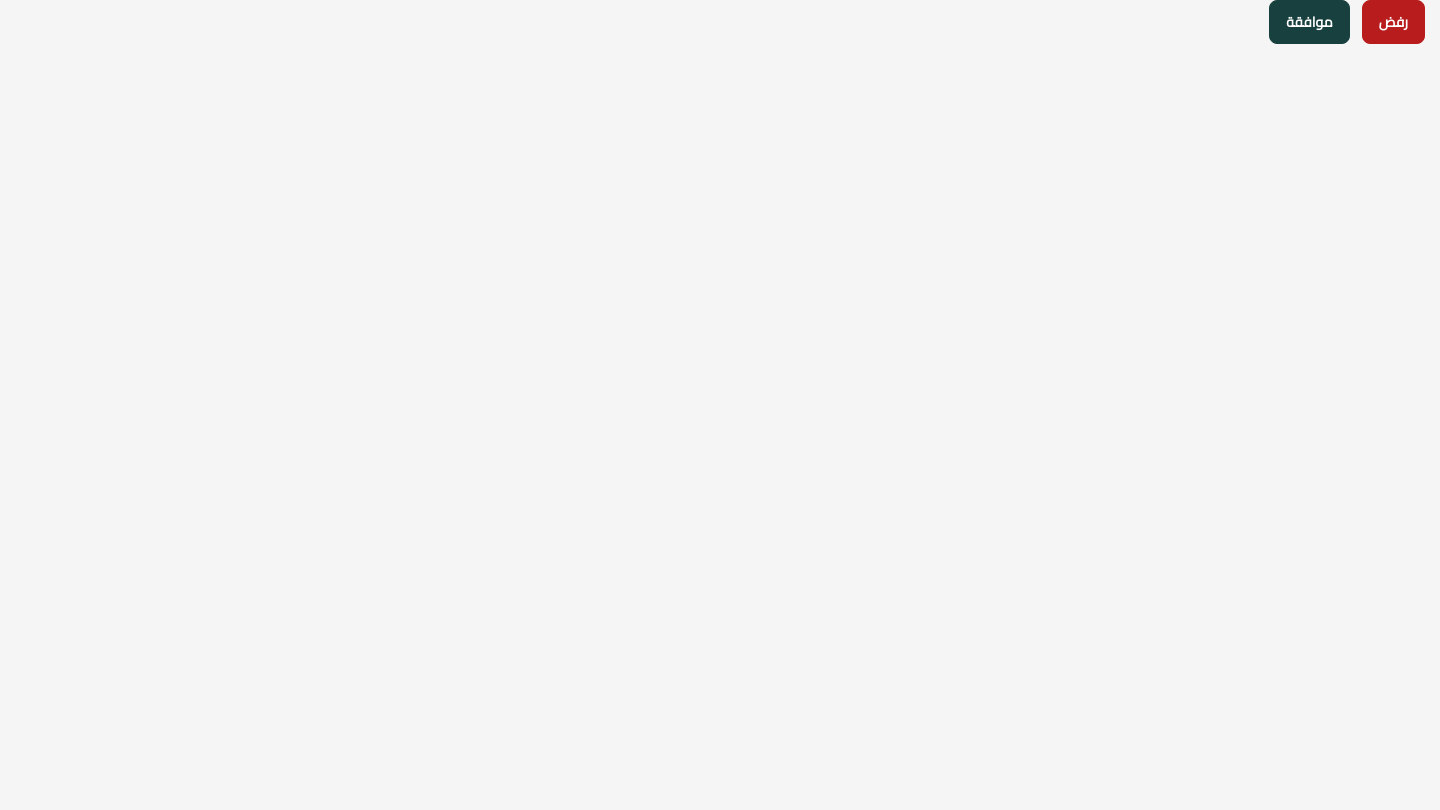
Test case: sends the trimmed reason, toasts, and refreshes admin lists and public feeds
Click the button "رفض" at coordinates (1393, 22), box [1362,0,1425,44]
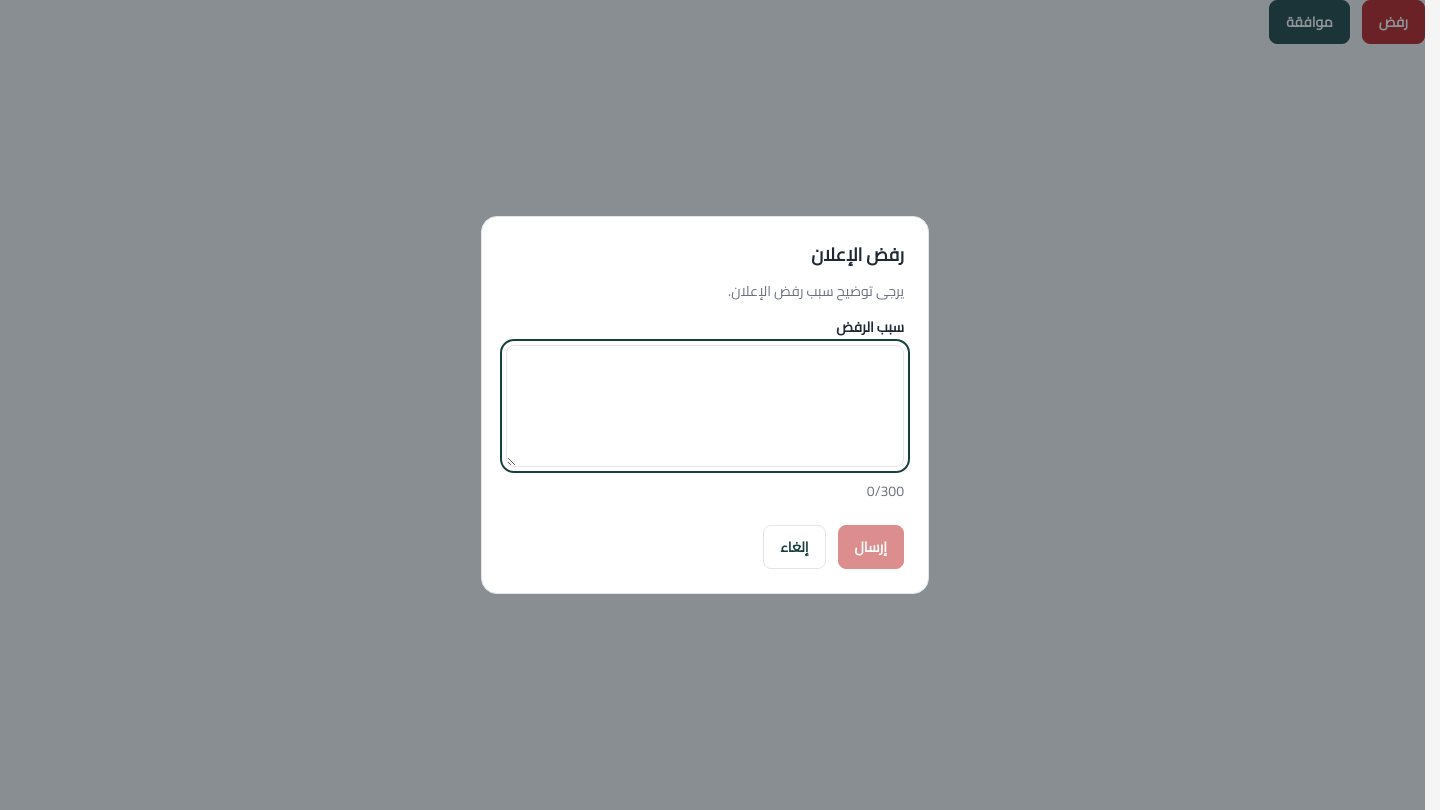
Type "  بيانات غير مكتملة  " into the text box labelled "سبب الرفض" at coordinates (705, 406), box [506,345,904,467]
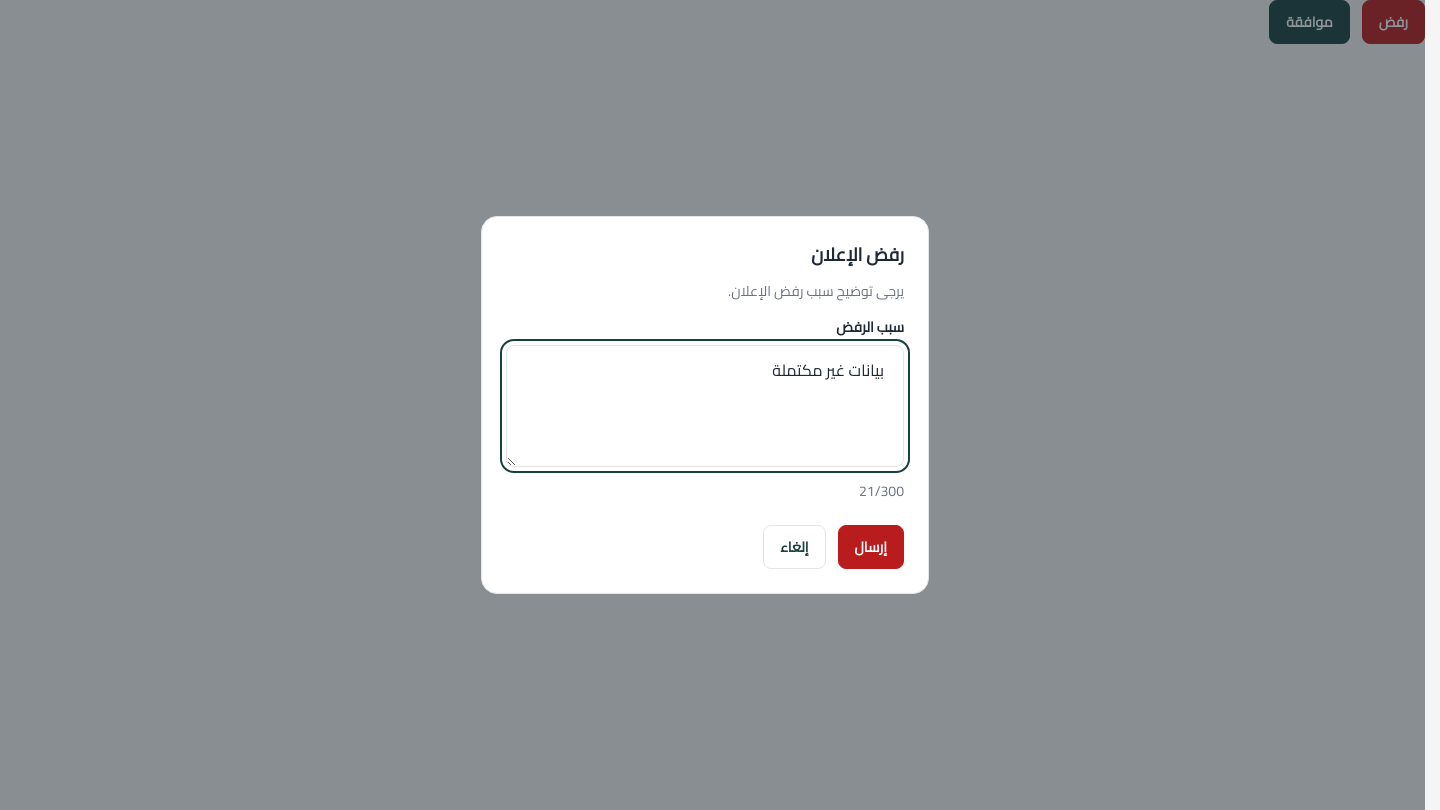
Click the button "إرسال" at coordinates (871, 547), box [838,525,904,569]
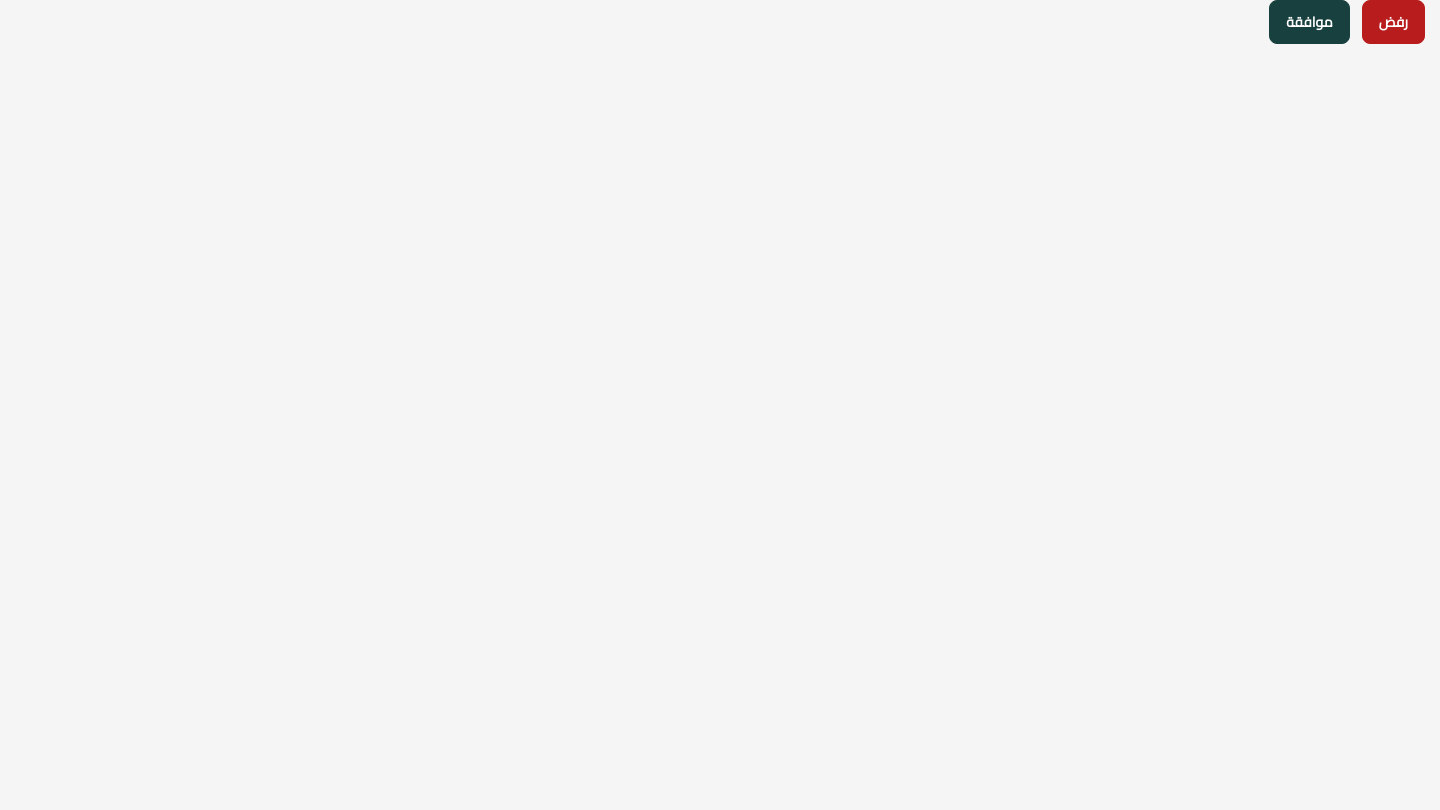
Expected: the dialog is gone
